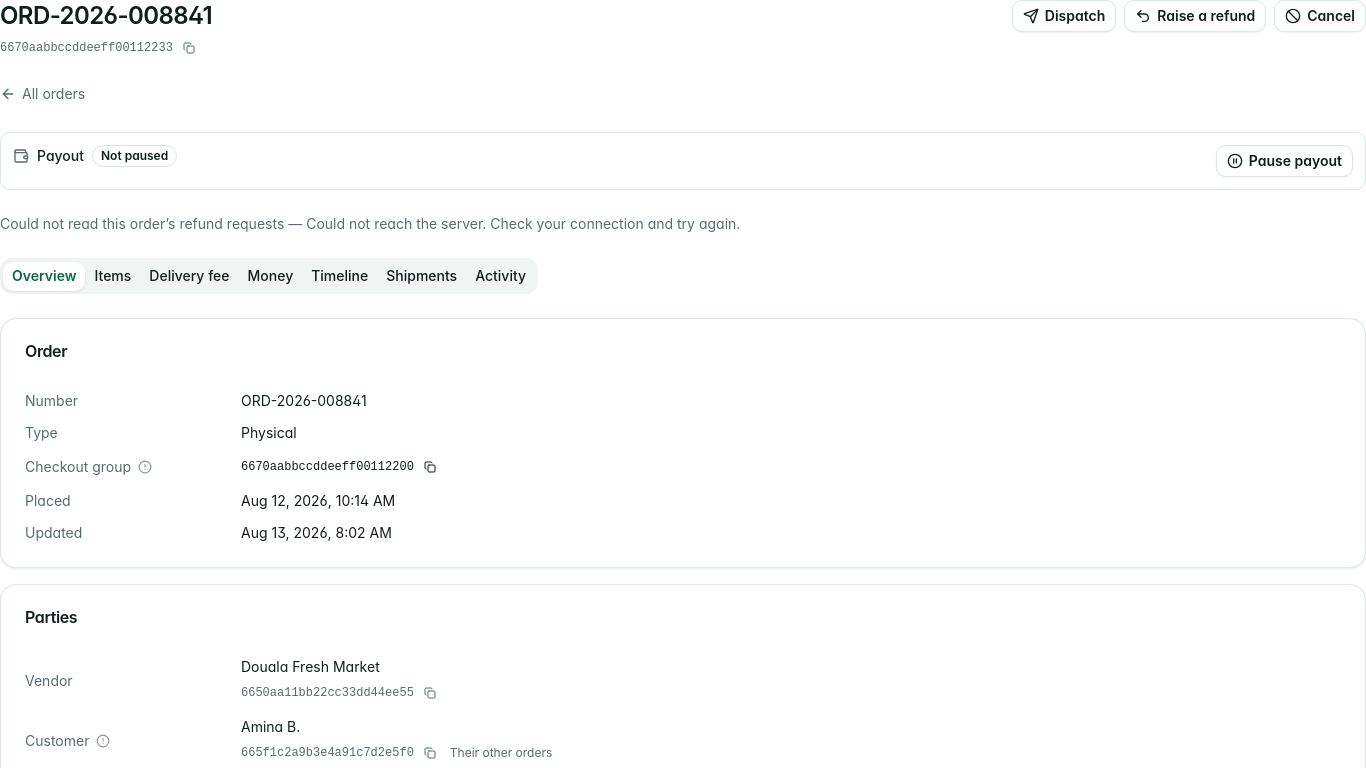
Scenario: the order payout card › requires a note of at least three characters before it sends anything
Step 1. Click the button "Pause payout" → (1284, 161), box top-left (1216, 145), bottom-right (1353, 177)
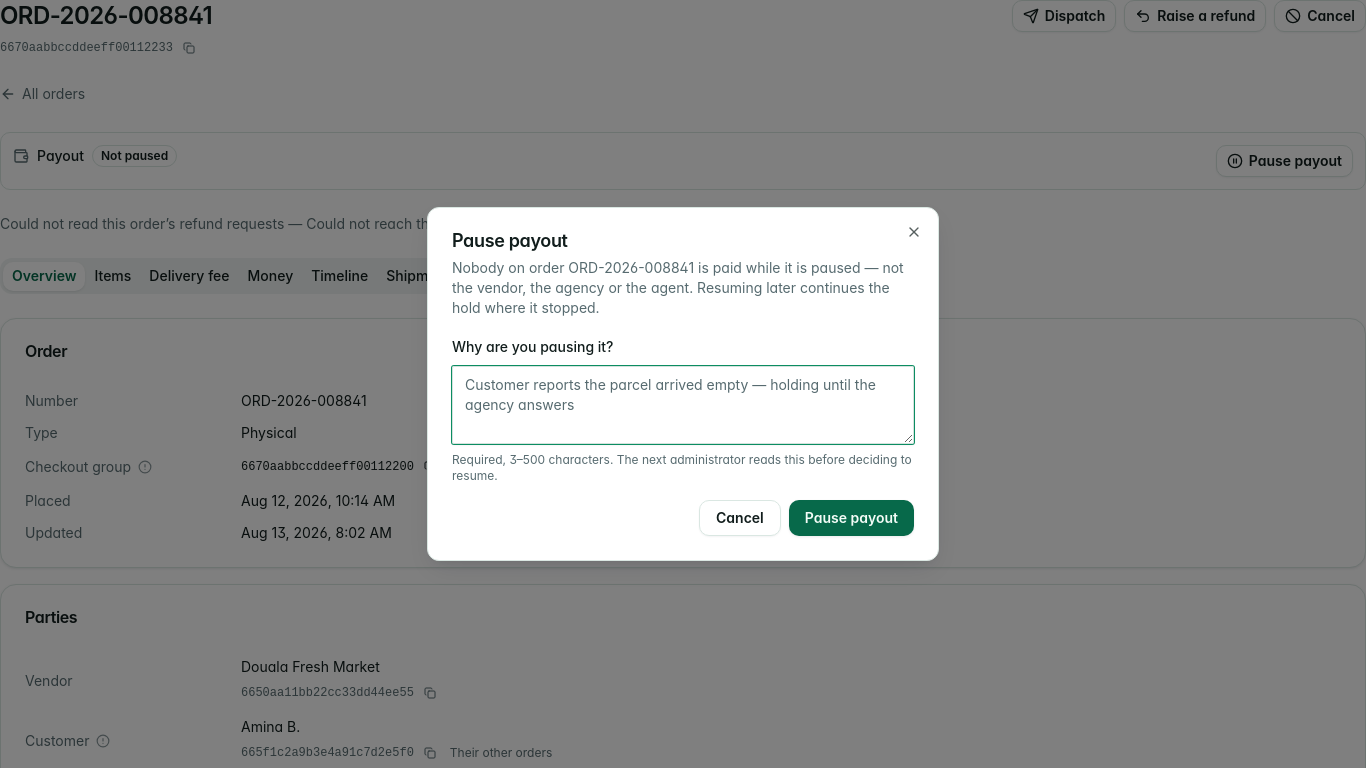
Step 2. Type "ab" into the text box labelled "Why are you pausing it?" → (683, 405), box top-left (452, 366), bottom-right (914, 444)
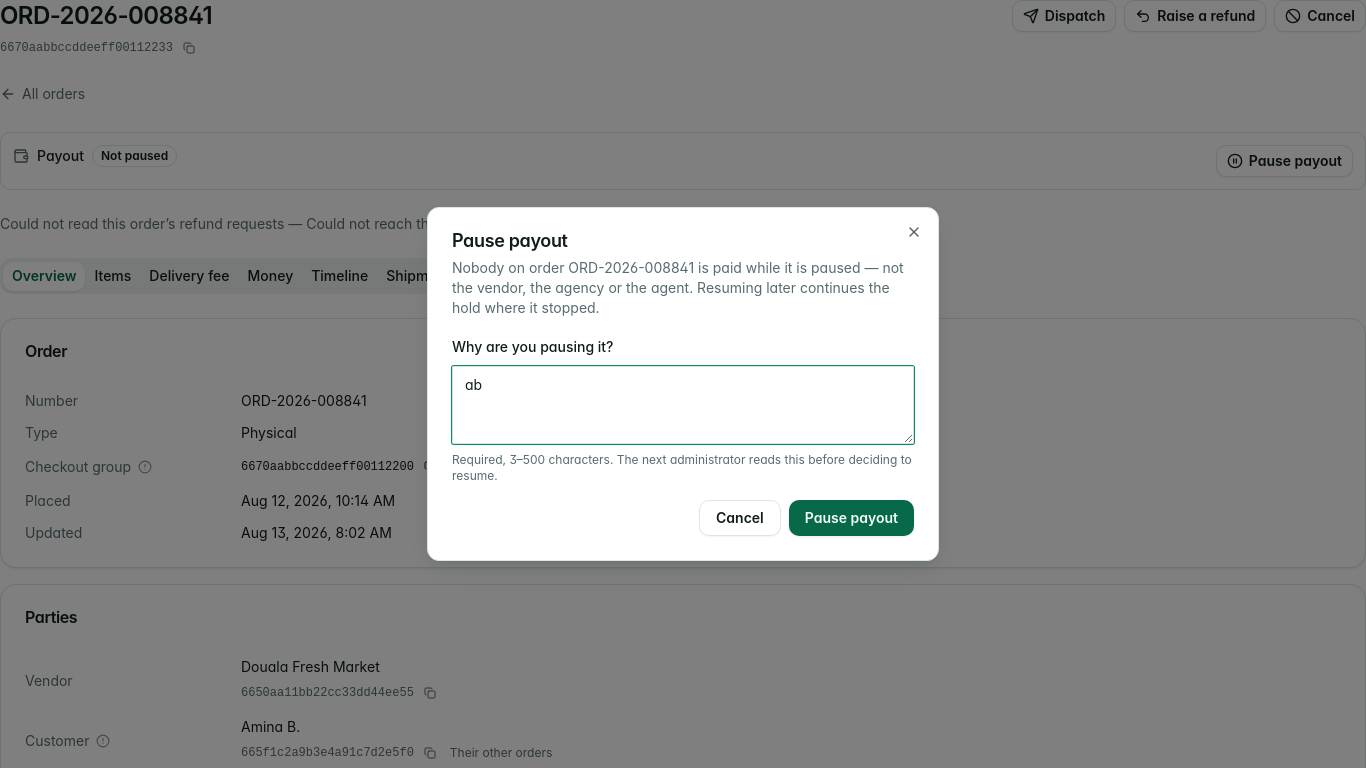
Step 3. Click the button "Pause payout" → (851, 518), box top-left (789, 500), bottom-right (914, 536)
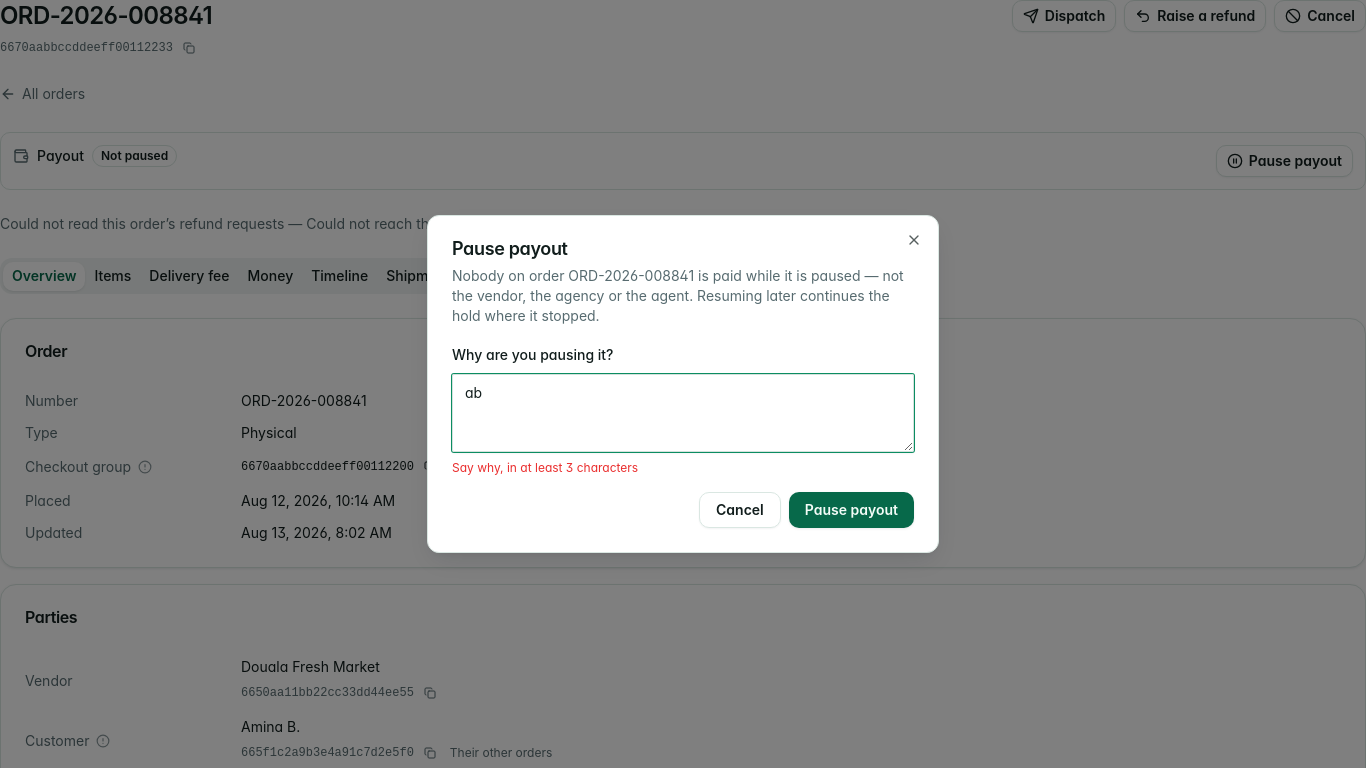
Result: the text "Say why, in at least 3 characters" is shown at top-left (452, 460), bottom-right (638, 475)
